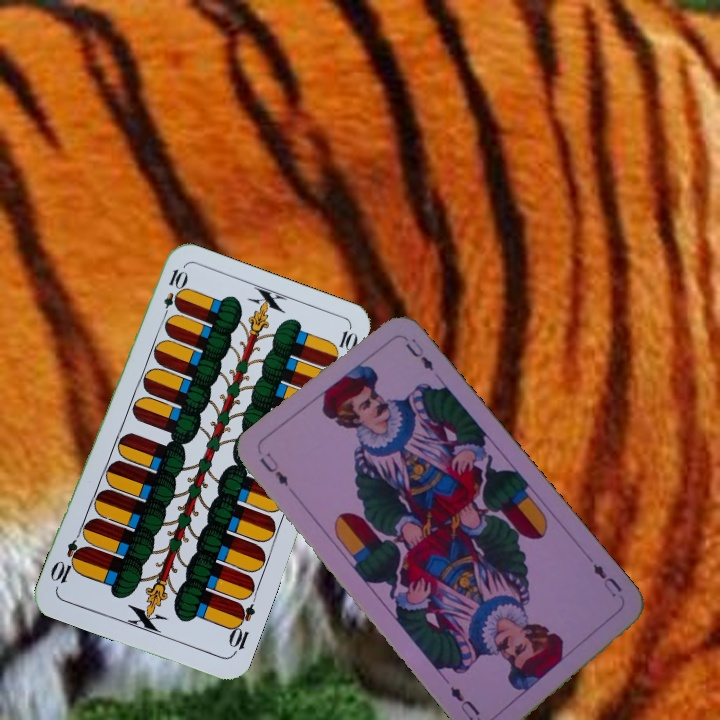E10: (224, 599, 258, 658), (158, 265, 188, 323)
EU: (255, 448, 292, 489), (588, 560, 625, 600)
